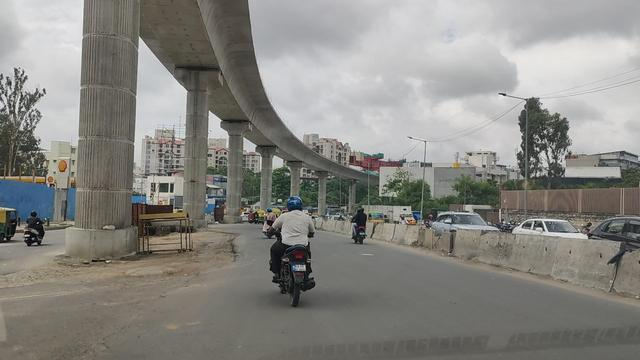LMV: (271, 196, 313, 301), (27, 212, 44, 244), (351, 208, 366, 243)
RoadDamages: (7, 261, 185, 297), (95, 303, 154, 359), (194, 228, 240, 276)
